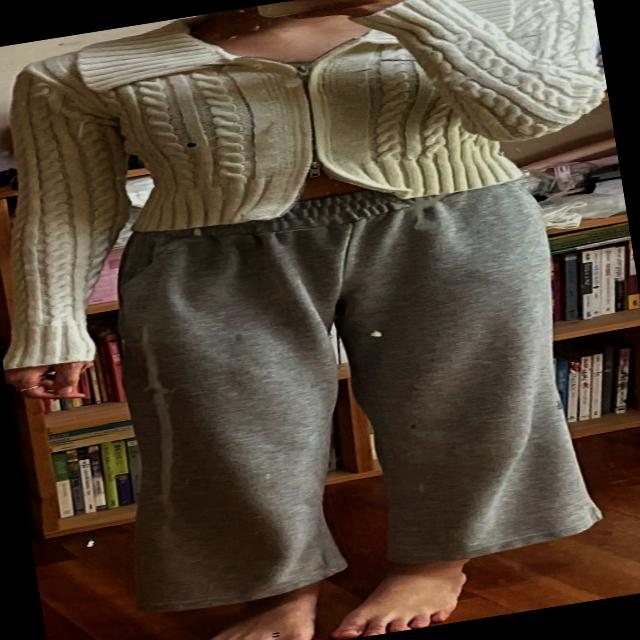cardigan: (0, 0, 636, 371)
trainingpants: (95, 158, 612, 612)
